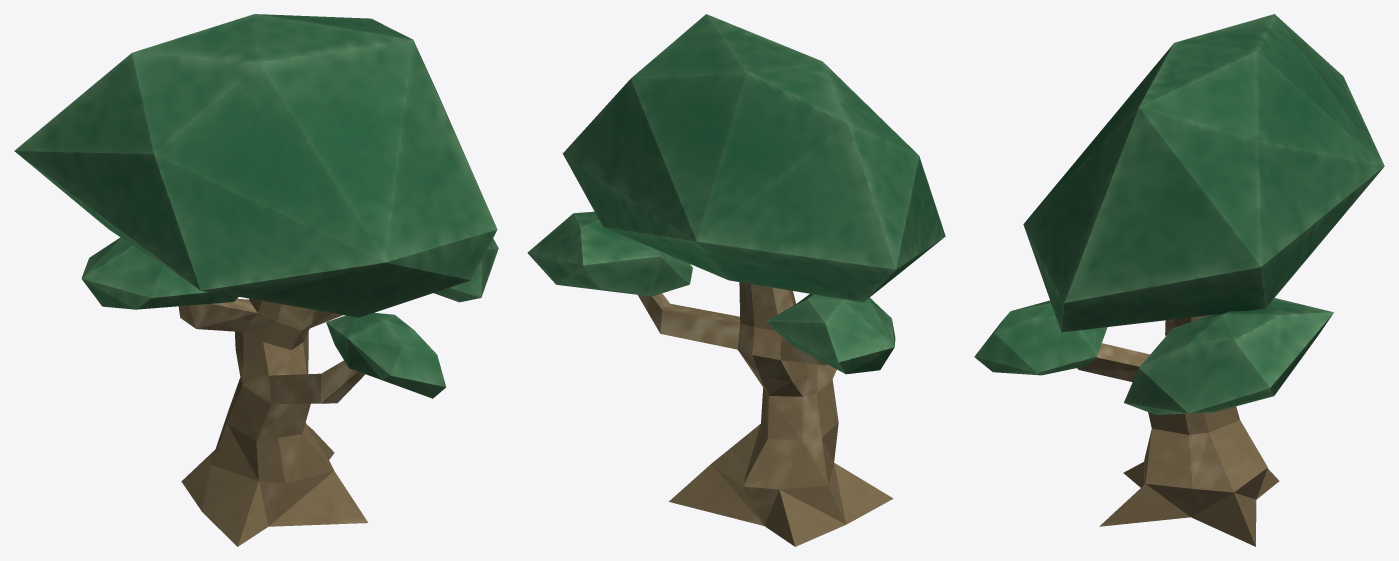
File: GJ_Decor_Exterior_Tree_01.fbx
3 renders of one model, left to right at view 1: azimuth 30°, elevation 25°; view 2: azimuth 150°, elevation 25°; view 3: azimuth 270°, elevation 25°, orthographic. The views are drawn at different scales.
Parts seen in each view (by area): view 1: GJ_Decor_Exterior_Tree_01; view 2: GJ_Decor_Exterior_Tree_01; view 3: GJ_Decor_Exterior_Tree_01.
Boxes of the visible parts, x1,y1,x2,y2 form: GJ_Decor_Exterior_Tree_01: (14,14,498,546); GJ_Decor_Exterior_Tree_01: (527,14,945,546); GJ_Decor_Exterior_Tree_01: (974,14,1384,546).
Size of the model in its own units: 13.21 by 14.14 by 11.38.
Materials: 1 (1 with a texture image).
